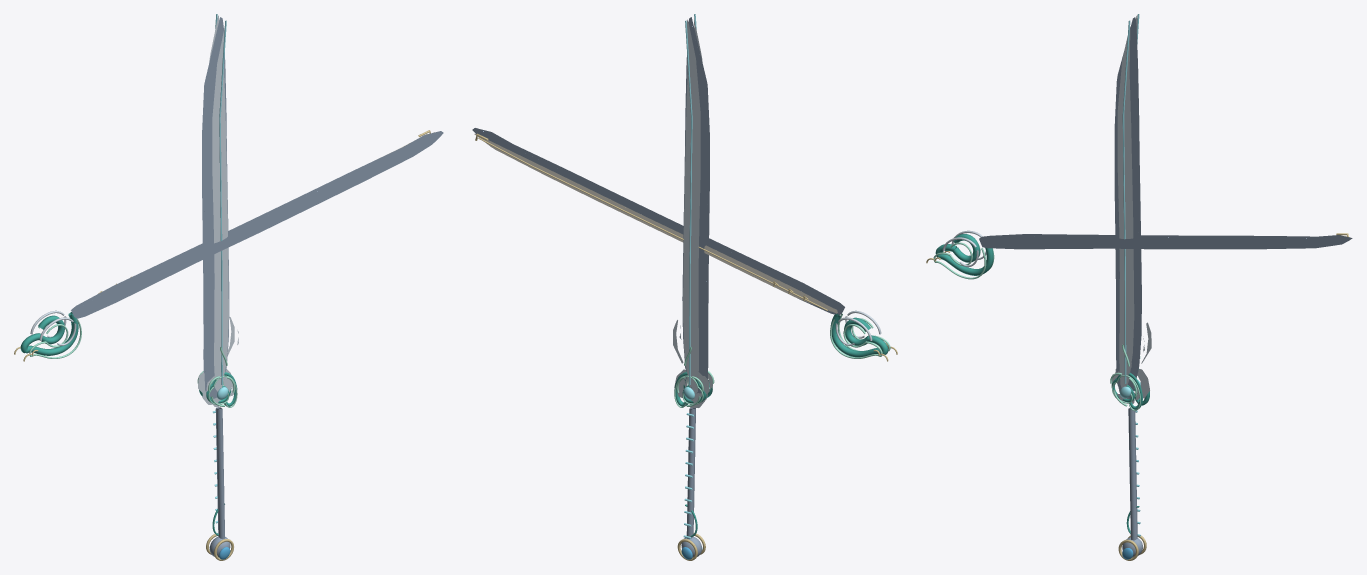
File: glint_of_clouds_assembly.obj
3 views of the same model, side by side, from view 1: azimuth 30°, elevation 25°; view 2: azimuth 150°, elevation 25°; view 3: azimuth 330°, elevation 25° (orthographic).
Visible parts, largest first — view 1: glint_of_clouds_assembly; view 2: glint_of_clouds_assembly; view 3: glint_of_clouds_assembly.
Boxes of the visible parts, <box> form: glint_of_clouds_assembly: <box>14,14,443,560</box>; glint_of_clouds_assembly: <box>472,14,897,560</box>; glint_of_clouds_assembly: <box>926,14,1352,560</box>.
Bounding box in the file's own units: 1.28 × 1.56 × 0.0701.
